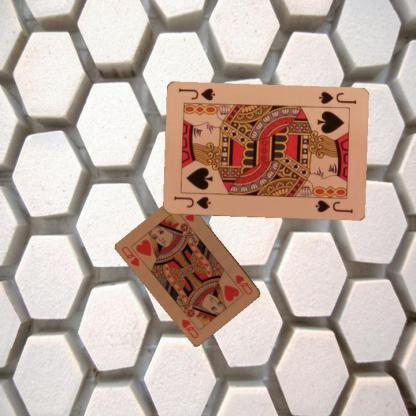Js: (315, 89, 358, 106), (170, 194, 212, 210)
Qh: (232, 272, 254, 296), (119, 244, 141, 268)
